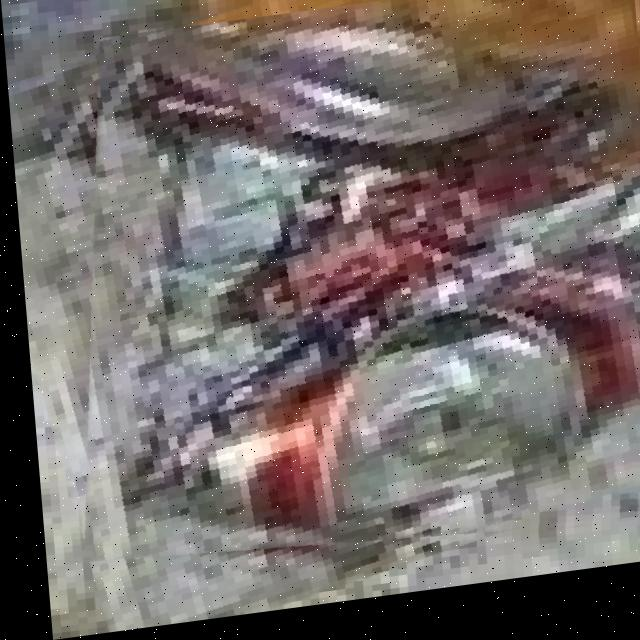litter: (85, 6, 640, 568)
